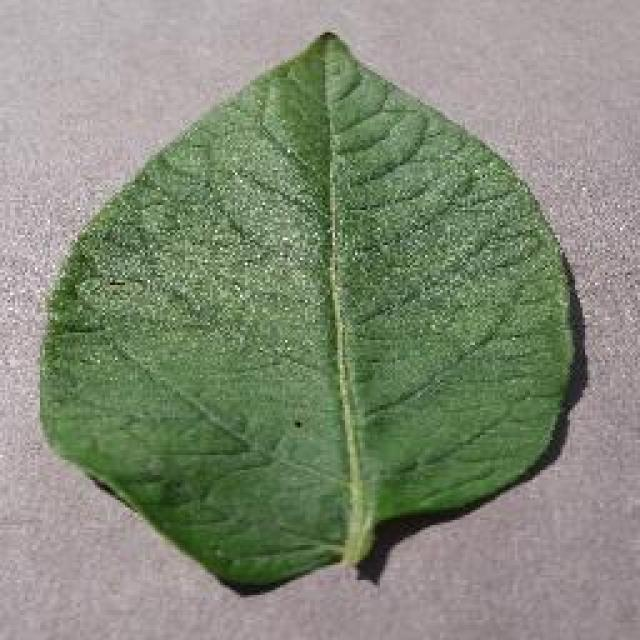Potato: (35, 27, 585, 595)
